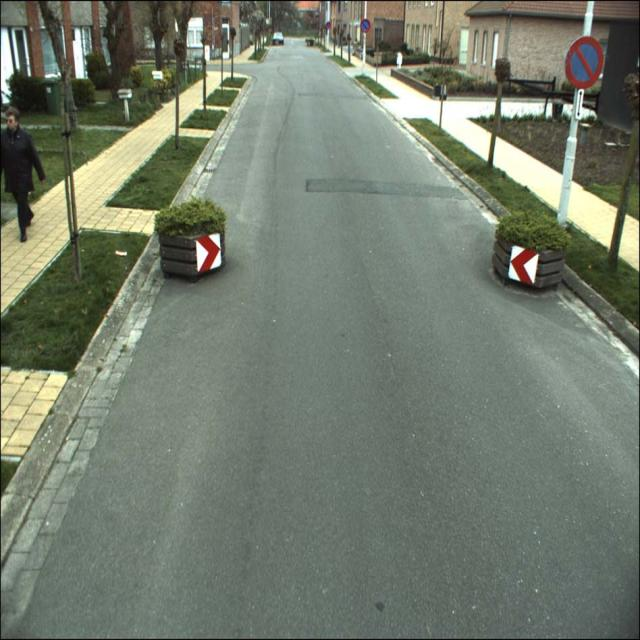parkyasak: (565, 38, 604, 89), (360, 19, 370, 33)
